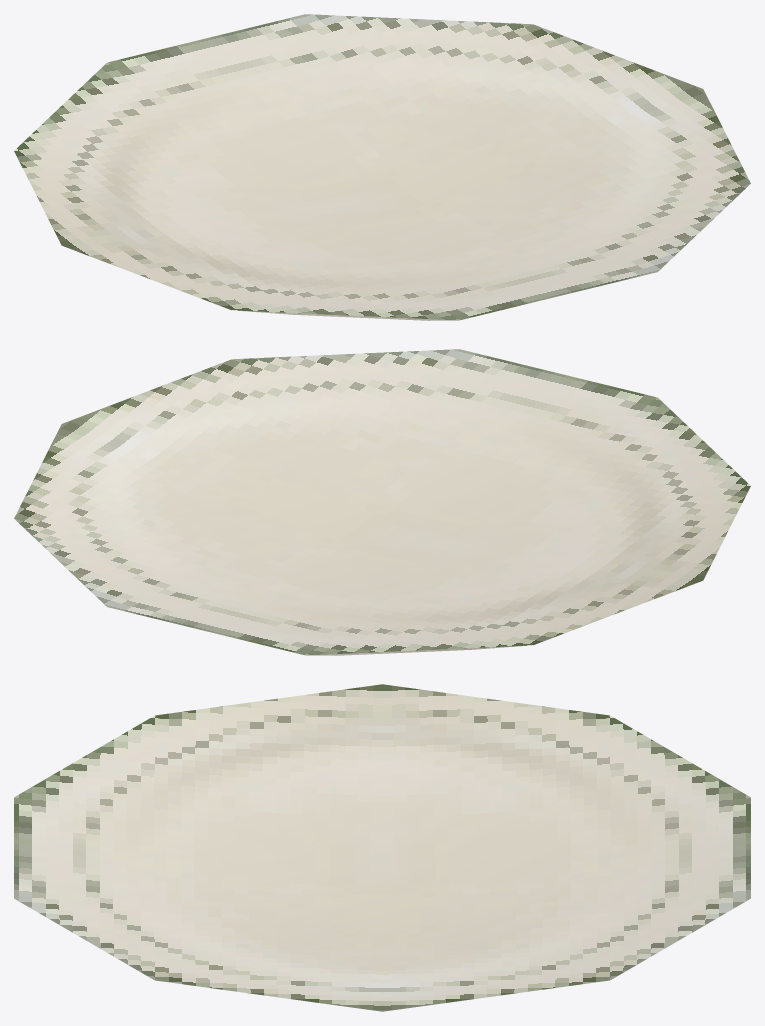
Rendered from Dish002.glb.
3 renders of one model, top to bottom at view 1: azimuth 30°, elevation 25°; view 2: azimuth 150°, elevation 25°; view 3: azimuth 270°, elevation 25°, orthographic. The views are drawn at different scales.
Visible parts, largest first — view 1: dish.002; view 2: dish.002; view 3: dish.002.
Part boxes in pixels (<box>): dish.002: <box>14,14,750,320</box>; dish.002: <box>14,349,750,655</box>; dish.002: <box>14,684,750,1011</box>.
Bounding box in the file's own units: 0.27 × 0.025 × 0.2568.
Materials: 1 (1 with a texture image).
